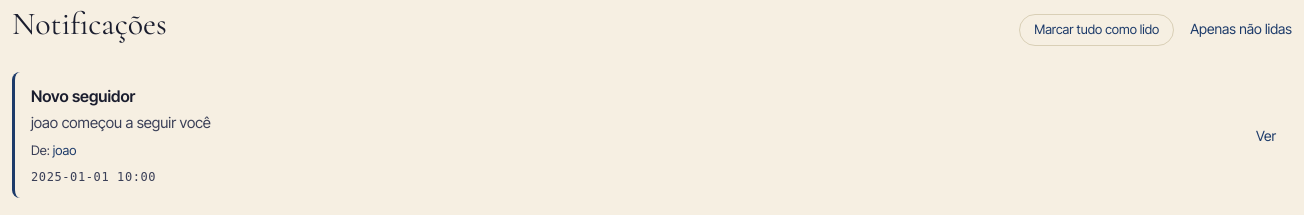
Test case: notificacoes — marcar tudo como lido (5E.8) › some com o botão depois de marcar tudo
Click the button with test id "mark-all-read" at point(1097, 30), box left=1019, top=14, right=1174, bottom=46
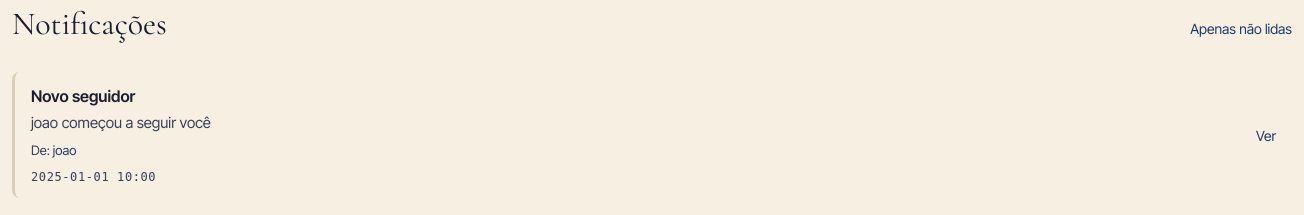
Expected: the button with test id "mark-all-read" is gone
